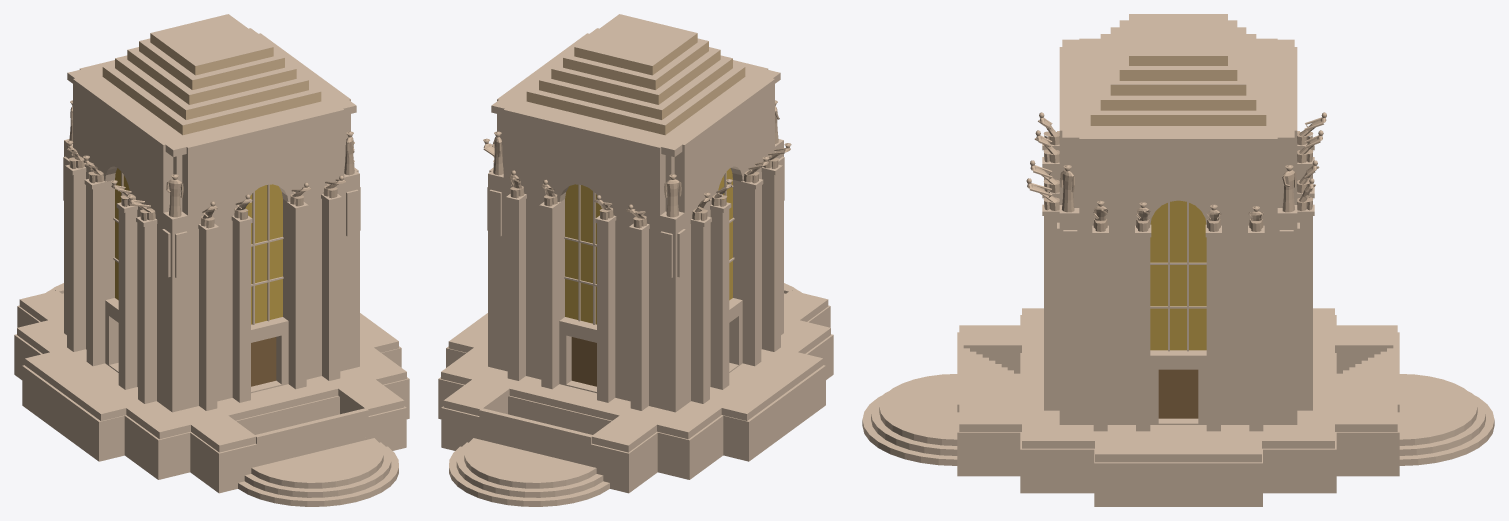
The model's file is sydney-anzac-memorial.detail.glb.
3 renders of one model, left to right at view 1: azimuth 30°, elevation 25°; view 2: azimuth 150°, elevation 25°; view 3: azimuth 270°, elevation 25°, orthographic. The views are drawn at different scales.
Visible parts, largest first — view 1: Anzac Memorial; view 2: Anzac Memorial; view 3: Anzac Memorial.
Boxes of the visible parts, x1,y1,x2,y2 form: Anzac Memorial: (14,14,409,506); Anzac Memorial: (438,14,833,506); Anzac Memorial: (862,14,1494,506).
Bounding box in the file's own units: 27.1 × 30.5 × 44.68.
